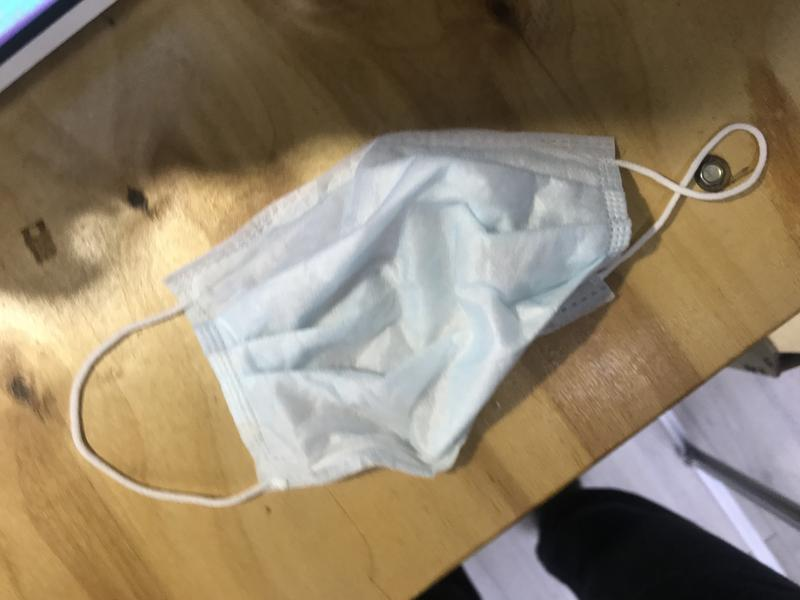medical_mask: (67, 128, 767, 508)
